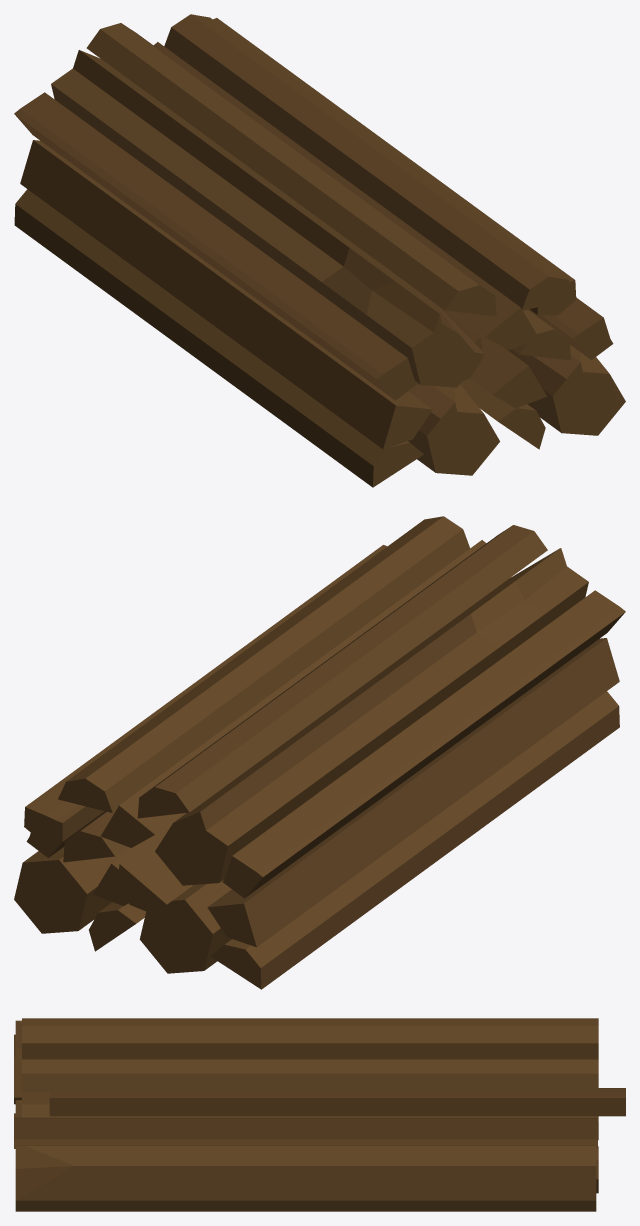
Rendered from pile.fbx.
3 renders of one model, top to bottom at view 1: azimuth 30°, elevation 25°; view 2: azimuth 150°, elevation 25°; view 3: azimuth 270°, elevation 25°, orthographic. The views are drawn at different scales.
Parts seen in each view (by area): view 1: pile; view 2: pile; view 3: pile.
Boxes of the visible parts, box(x1,y1,x2,y2) form: pile: box(14, 14, 625, 487); pile: box(14, 516, 625, 989); pile: box(14, 1018, 625, 1211).
Bounding box in the file's own units: 42.86 × 30.29 × 113.
